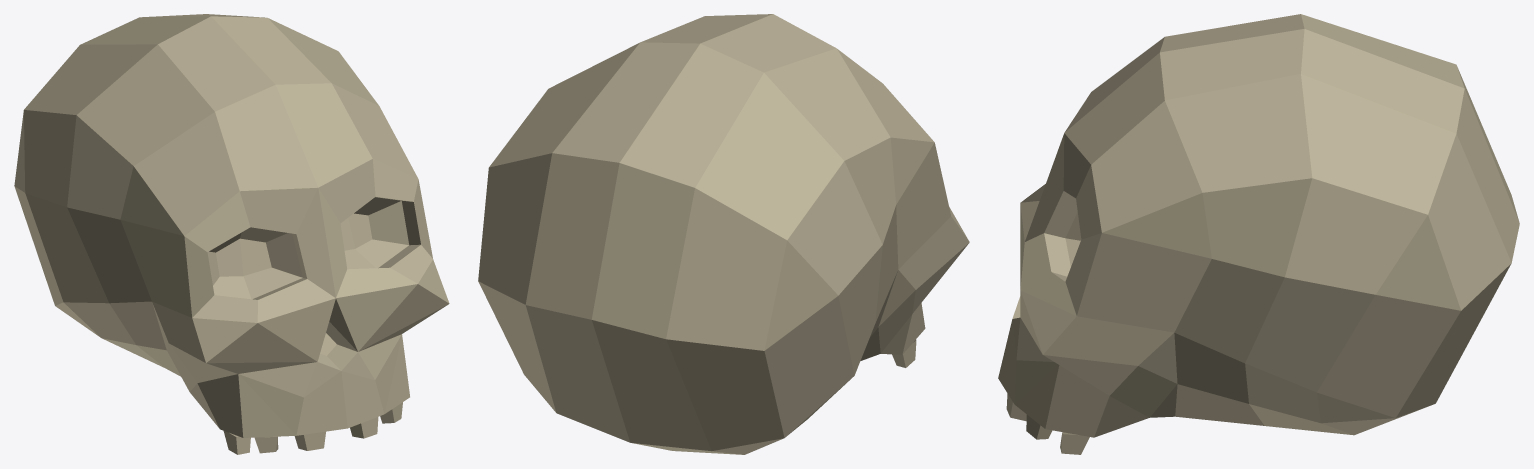
File: skull.gltf
3 renders of one model, left to right at view 1: azimuth 30°, elevation 25°; view 2: azimuth 150°, elevation 25°; view 3: azimuth 270°, elevation 25°, orthographic. The views are drawn at different scales.
Visible parts, largest first — view 1: Skull; view 2: Skull; view 3: Skull.
Boxes of the visible parts, left/top/right/bottom form: Skull: left=14, top=14, right=449, bottom=454; Skull: left=478, top=14, right=969, bottom=454; Skull: left=998, top=14, right=1519, bottom=454.
Bounding box in the file's own units: 0.1466 × 0.1557 × 0.1919.
1 material, 1 textured.
